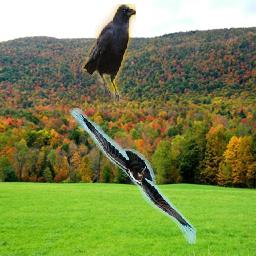Crow: (69, 108, 197, 244), (82, 4, 136, 102)
